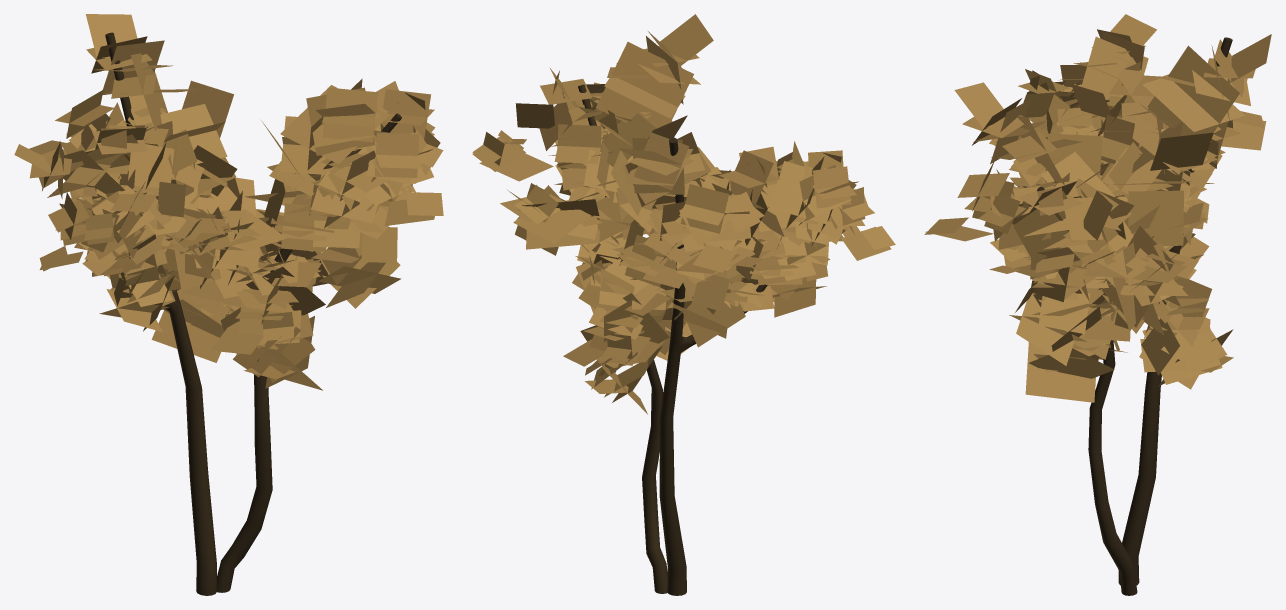
The model's file is Tree small var2.fbx.
3 views of the same model, side by side, from view 1: azimuth 30°, elevation 25°; view 2: azimuth 150°, elevation 25°; view 3: azimuth 270°, elevation 25° (orthographic). The views are drawn at different scales.
Visible parts, largest first — view 1: Small_Tree_02; view 2: Small_Tree_02; view 3: Small_Tree_02.
Part boxes in pixels (box(x1,y1,x2,y2)): Small_Tree_02: box(14, 14, 443, 595); Small_Tree_02: box(472, 14, 895, 595); Small_Tree_02: box(924, 14, 1271, 595).
Bounding box in the file's own units: 8.18 × 10.08 × 6.01.
